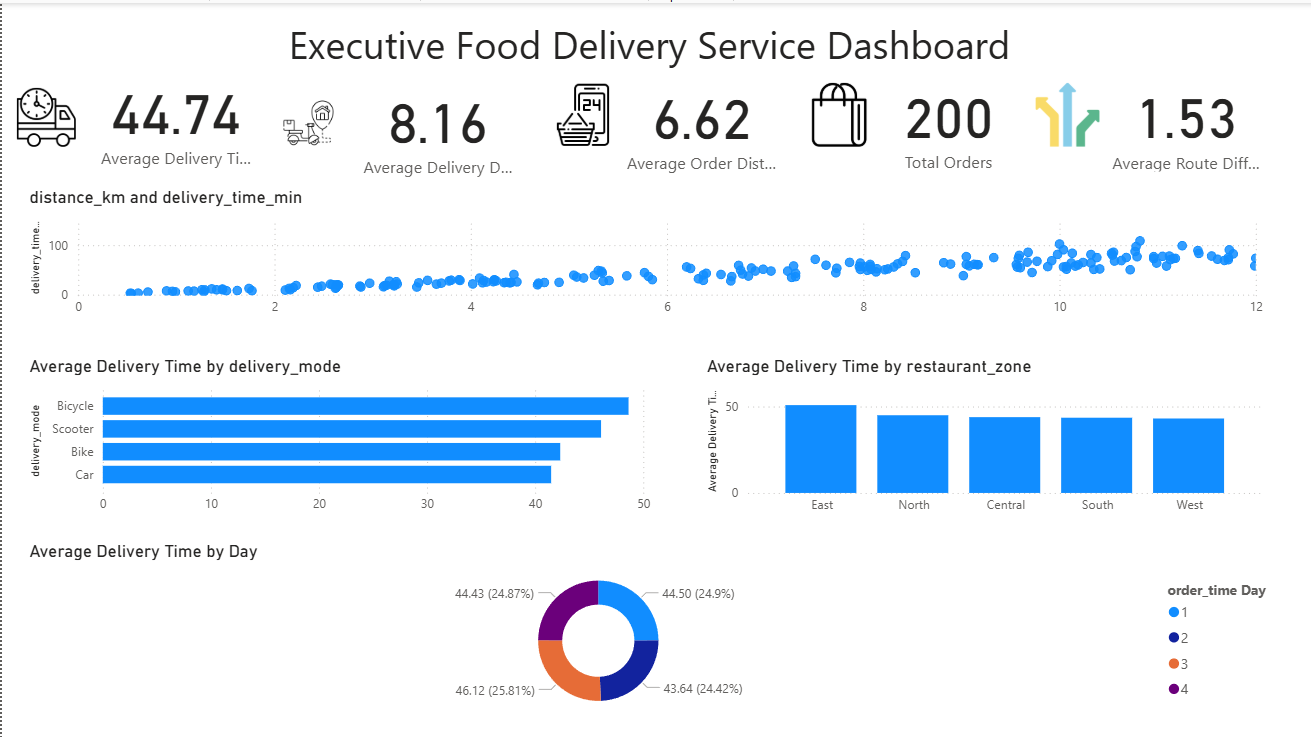

The page's visual inventory and layout, read from the dashboard file:
{"tool":"powerbi","page":{"name":"Executive Food Delivery Service Dashboard","canvas":[1280,720],"ordinal":0},"visuals":[{"type":"textbox","box":[9.6,9.6,1247.3,64.5],"z":0},{"type":"card","fields":{"Values":["Food_Delivery_Route_Efficiency_Dataset.Average Delivery Time"]},"box":[91.7,57.5,157.7,111.3],"z":1000},{"type":"card","fields":{"Values":["Food_Delivery_Route_Efficiency_Dataset.Average Delivery Distance"]},"box":[347.3,68.5,159,106.4],"z":2000},{"type":"card","fields":{"Values":["Food_Delivery_Route_Efficiency_Dataset.Average Order Distance"]},"box":[604.1,64.8,161.4,106.4],"z":3000},{"type":"card","fields":{"Values":["Food_Delivery_Route_Efficiency_Dataset.Total Orders"]},"box":[846.2,61.1,160.2,111.3],"z":4000},{"type":"card","fields":{"Values":["Food_Delivery_Route_Efficiency_Dataset.Average Route Difference"]},"box":[1078.5,64.8,160.2,105.2],"z":5000},{"type":"scatterChart","fields":{"X":["Food_Delivery_Route_Efficiency_Dataset.distance_km"],"Y":["Food_Delivery_Route_Efficiency_Dataset.delivery_time_min"]},"box":[22,179.8,1216.7,135.7],"z":6000},{"type":"clusteredBarChart","fields":{"Category":["Food_Delivery_Route_Efficiency_Dataset.delivery_mode"],"Y":["Food_Delivery_Route_Efficiency_Dataset.Average Delivery Time"]},"box":[22,344.8,617.5,163.9],"z":7000},{"type":"clusteredColumnChart","fields":{"Category":["Food_Delivery_Route_Efficiency_Dataset.restaurant_zone"],"Y":["Food_Delivery_Route_Efficiency_Dataset.Average Delivery Time"]},"box":[684.7,344.4,554.4,164.7],"z":8000},{"type":"donutChart","fields":{"Category":["Food_Delivery_Route_Efficiency_Dataset.order_time.Variation.Date Hierarchy.Day"],"Y":["Food_Delivery_Route_Efficiency_Dataset.Average Delivery Time"]},"box":[22,525.8,1235.1,177.3],"z":9000},{"type":"image","box":[9.8,78.3,67.3,67.3],"z":9001},{"type":"image","box":[269,88,62.4,58.7],"z":9002},{"type":"image","box":[781.4,73.4,74.6,72.1],"z":9004},{"type":"image","box":[1006.4,73.4,72.1,72.1],"z":9005},{"type":"image","box":[533.2,73.4,70.9,72.1],"z":9006}]}

Visuals, with their boxes in screenshot pixels (x1, y1, x2, y2), scaled from the page's 1280x720 canvas onto the 1311x737 screenshot:
textbox: rect(10, 10, 1287, 76)
card - Food_Delivery_Route_Efficiency_Dataset.Average Delivery Time: rect(94, 59, 255, 173)
card - Food_Delivery_Route_Efficiency_Dataset.Average Delivery Distance: rect(356, 70, 519, 179)
card - Food_Delivery_Route_Efficiency_Dataset.Average Order Distance: rect(619, 66, 784, 175)
card - Food_Delivery_Route_Efficiency_Dataset.Total Orders: rect(867, 63, 1031, 176)
card - Food_Delivery_Route_Efficiency_Dataset.Average Route Difference: rect(1105, 66, 1269, 174)
scatterChart - Food_Delivery_Route_Efficiency_Dataset.distance_km x Food_Delivery_Route_Efficiency_Dataset.delivery_time_min: rect(23, 184, 1269, 323)
clusteredBarChart - Food_Delivery_Route_Efficiency_Dataset.delivery_mode x Food_Delivery_Route_Efficiency_Dataset.Average Delivery Time: rect(23, 353, 655, 521)
clusteredColumnChart - Food_Delivery_Route_Efficiency_Dataset.restaurant_zone x Food_Delivery_Route_Efficiency_Dataset.Average Delivery Time: rect(701, 353, 1269, 521)
donutChart - Food_Delivery_Route_Efficiency_Dataset.order_time.Variation.Date Hierarchy.Day x Food_Delivery_Route_Efficiency_Dataset.Average Delivery Time: rect(23, 538, 1288, 720)
image: rect(10, 80, 79, 149)
image: rect(276, 90, 339, 150)
image: rect(800, 75, 877, 149)
image: rect(1031, 75, 1105, 149)
image: rect(546, 75, 619, 149)
